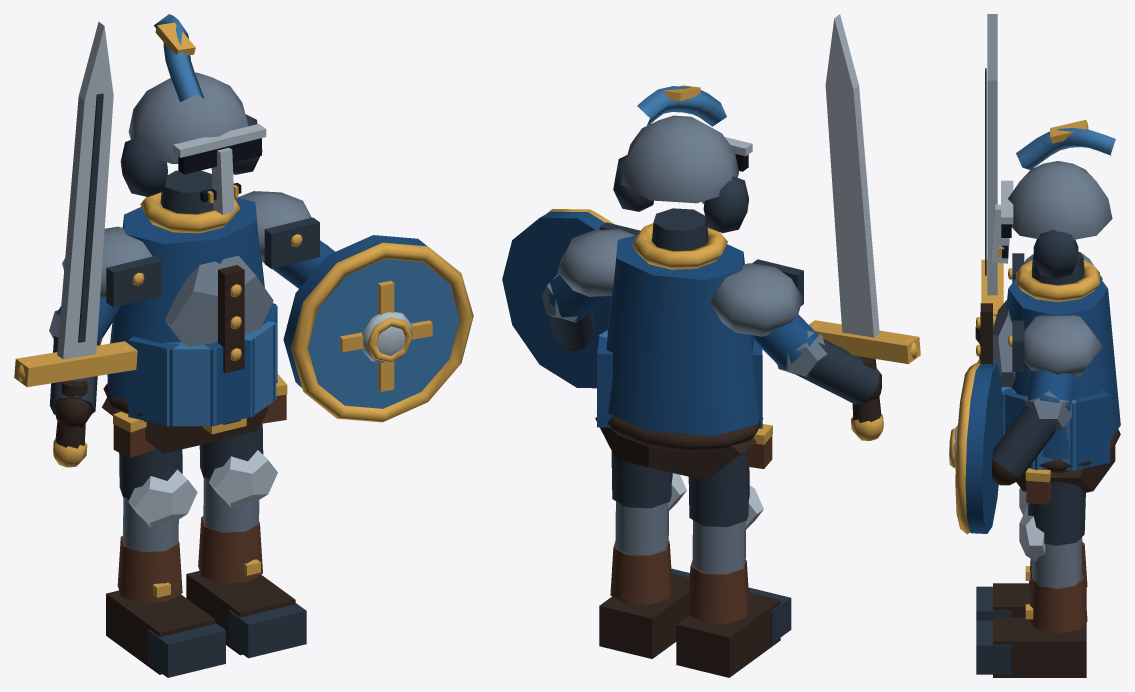
The model's file is hero.glb.
The picture shows the model from 3 angles, left to right: view 1: azimuth 30°, elevation 25°; view 2: azimuth 150°, elevation 25°; view 3: azimuth 270°, elevation 25°; orthographic projection. The views are drawn at different scales.
Visible parts, largest first — view 1: Young_Fantasy_Hero_Knight, Buckler_Shield, Ceremonial_Sword, Left_Boot, Tunic_Skirt_Panel_1, Right_Boot, Tunic_Skirt_Panel_0, Tunic_Skirt_Panel_2, Tunic_Skirt_Panel_3, Left_Thigh, Gold_Collar, Right_Shin (+4 smaller); view 2: Young_Fantasy_Hero_Knight, Ceremonial_Sword, Buckler_Shield, Left_Boot, Right_Boot, Left_Thigh, Right_Forearm, Left_Shin, Right_Shin, Right_Thigh, Belt, Gold_Collar (+4 smaller); view 3: Young_Fantasy_Hero_Knight, Buckler_Shield, Right_Boot, Ceremonial_Sword, Tunic_Skirt_Panel_6, Right_Thigh, Left_Forearm, Right_Shin, Gold_Collar, Left_Upper_Arm, Left_Boot, Tunic_Skirt_Panel_4 (+2 smaller).
Part boxes in pixels (x1,y1,x2,y2): Young_Fantasy_Hero_Knight: (49, 14, 328, 677); Buckler_Shield: (283, 235, 473, 422); Ceremonial_Sword: (14, 22, 137, 467); Left_Boot: (106, 590, 214, 674); Tunic_Skirt_Panel_1: (166, 342, 216, 426); Right_Boot: (186, 571, 295, 655); Tunic_Skirt_Panel_0: (128, 336, 179, 426); Tunic_Skirt_Panel_2: (204, 339, 254, 426); Tunic_Skirt_Panel_3: (244, 321, 276, 417); Left_Thigh: (119, 447, 182, 498); Gold_Collar: (140, 192, 240, 233); Right_Shin: (203, 477, 259, 582); Young_Fantasy_Hero_Knight: (541, 85, 881, 643); Ceremonial_Sword: (809, 14, 920, 440); Buckler_Shield: (502, 209, 614, 388); Left_Boot: (676, 592, 780, 677); Right_Boot: (599, 573, 689, 658); Left_Thigh: (688, 450, 749, 527); Right_Forearm: (792, 339, 879, 404); Left_Shin: (692, 520, 746, 574); Right_Shin: (615, 501, 668, 555); Right_Thigh: (611, 451, 672, 508); Belt: (596, 411, 763, 452); Gold_Collar: (632, 223, 727, 269); Young_Fantasy_Hero_Knight: (975, 119, 1120, 674); Buckler_Shield: (949, 362, 1002, 534); Right_Boot: (993, 617, 1086, 677); Ceremonial_Sword: (978, 14, 1003, 363); Tunic_Skirt_Panel_6: (1070, 390, 1110, 470); Right_Thigh: (1028, 481, 1085, 545); Left_Forearm: (992, 405, 1056, 477); Right_Shin: (1031, 538, 1082, 588); Gold_Collar: (1016, 260, 1099, 301); Left_Upper_Arm: (1027, 370, 1075, 411); Left_Boot: (993, 583, 1086, 617); Tunic_Skirt_Panel_4: (1001, 388, 1037, 469).
Size of the model in its own units: 3.17 by 4.59 by 1.23.
